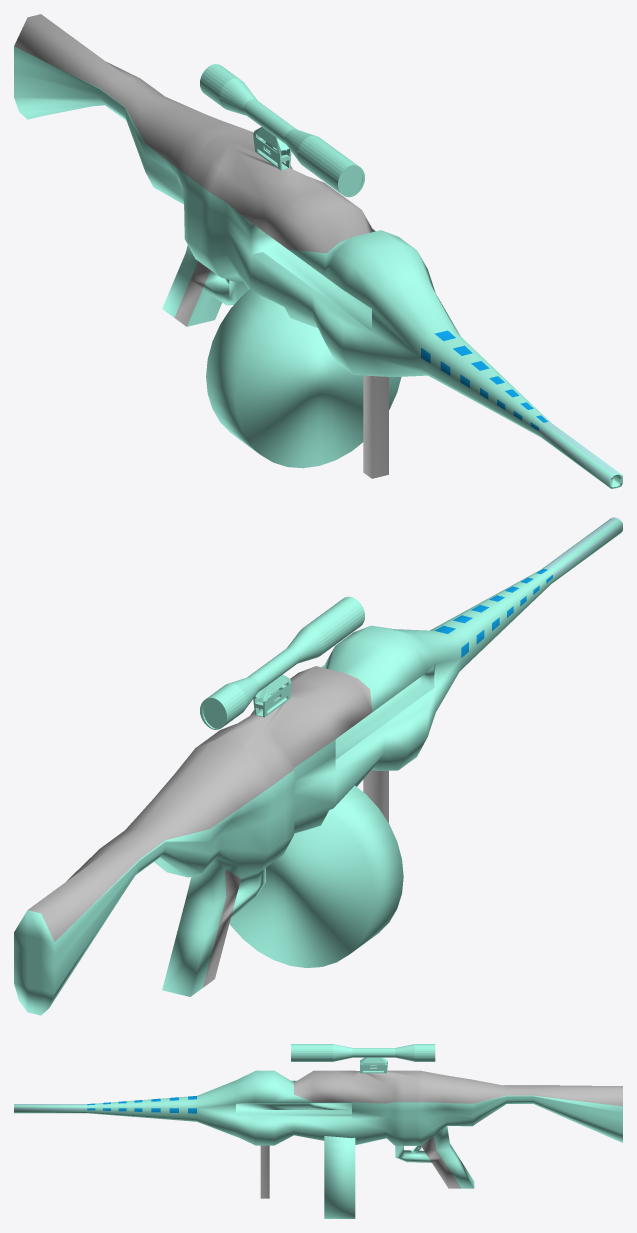
File: gun.fbx
3 renders of one model, top to bottom at view 1: azimuth 30°, elevation 25°; view 2: azimuth 150°, elevation 25°; view 3: azimuth 270°, elevation 25°, orthographic. The views are drawn at different scales.
Parts seen in each view (by area): view 1: Cube.003, Cube.004; view 2: Cube.003, Cube.004; view 3: Cube.003, Cube.004.
Boxes of the visible parts, box(x1,y1,x2,y2) form: Cube.003: box(14, 14, 622, 488); Cube.004: box(200, 64, 364, 197); Cube.003: box(14, 517, 622, 1015); Cube.004: box(200, 596, 364, 729); Cube.003: box(14, 1057, 622, 1218); Cube.004: box(291, 1044, 435, 1061).
Bounding box in the file's own units: 625 × 1151 × 3748.
1 material, 1 textured.
